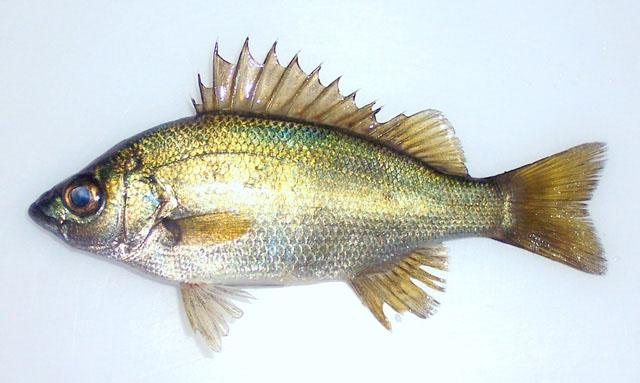Silver Perch: (24, 50, 622, 355)
